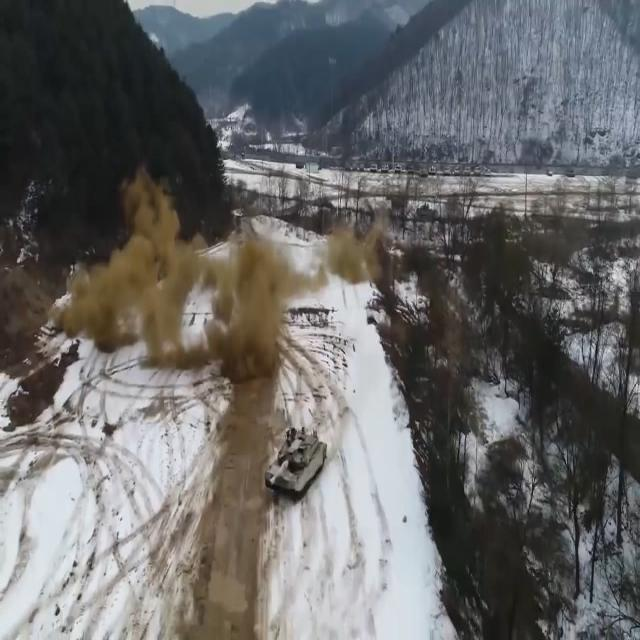korea tank: (264, 421, 329, 503)
